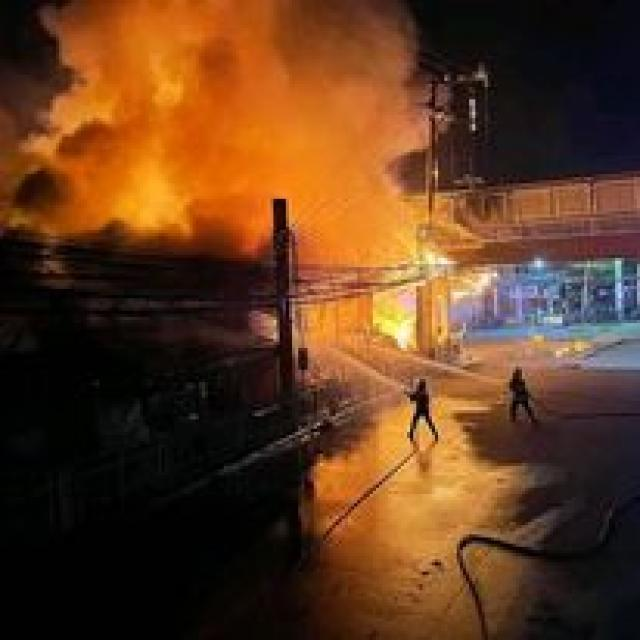Fire: (374, 234, 476, 368)
Smoke: (0, 0, 410, 261)
